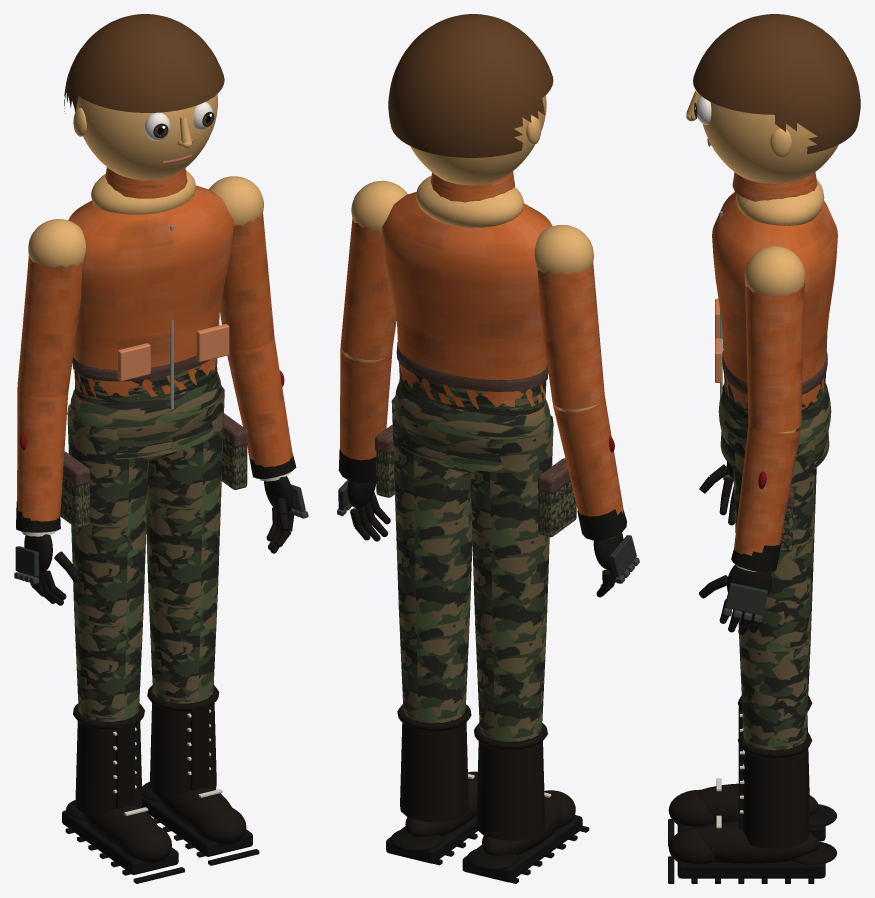
Rendered from 01-bandage.glb.
3 views of the same model, side by side, from view 1: azimuth 30°, elevation 25°; view 2: azimuth 150°, elevation 25°; view 3: azimuth 270°, elevation 25° (orthographic). The views are drawn at different scales.
Bounding box in the file's own units: 0.6344 × 1.77 × 0.3715.
Materials: 27 (4 with a texture image).
